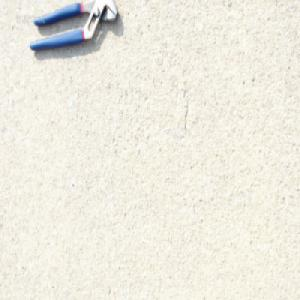Pliers: (27, 0, 120, 51)
